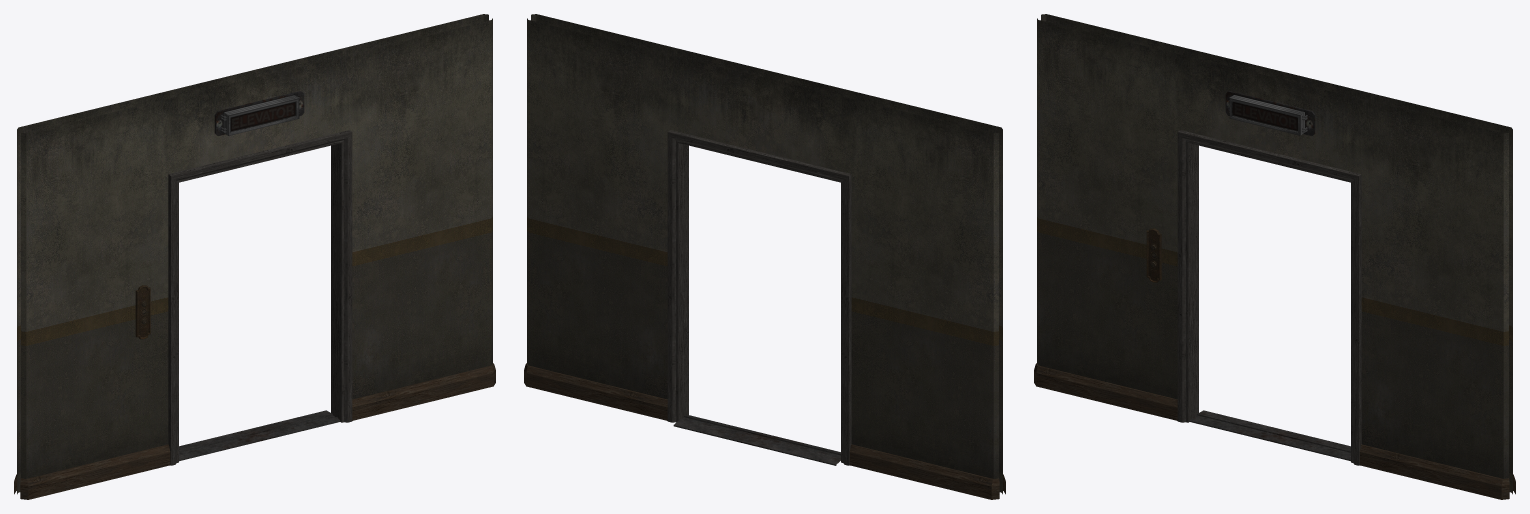
The model's file is elevator_doorway_1.obj.
The picture shows the model from 3 angles, left to right: view 1: azimuth 30°, elevation 25°; view 2: azimuth 150°, elevation 25°; view 3: azimuth 330°, elevation 25°; orthographic projection.
Parts seen in each view (by area): view 1: elevator_doorway_1; view 2: elevator_doorway_1; view 3: elevator_doorway_1.
Boxes of the visible parts, x1,y1,x2,y2 form: elevator_doorway_1: (14,14,495,499); elevator_doorway_1: (524,14,1005,499); elevator_doorway_1: (1034,14,1515,499).
Size of the model in its own units: 4.09 by 3 by 0.29.
